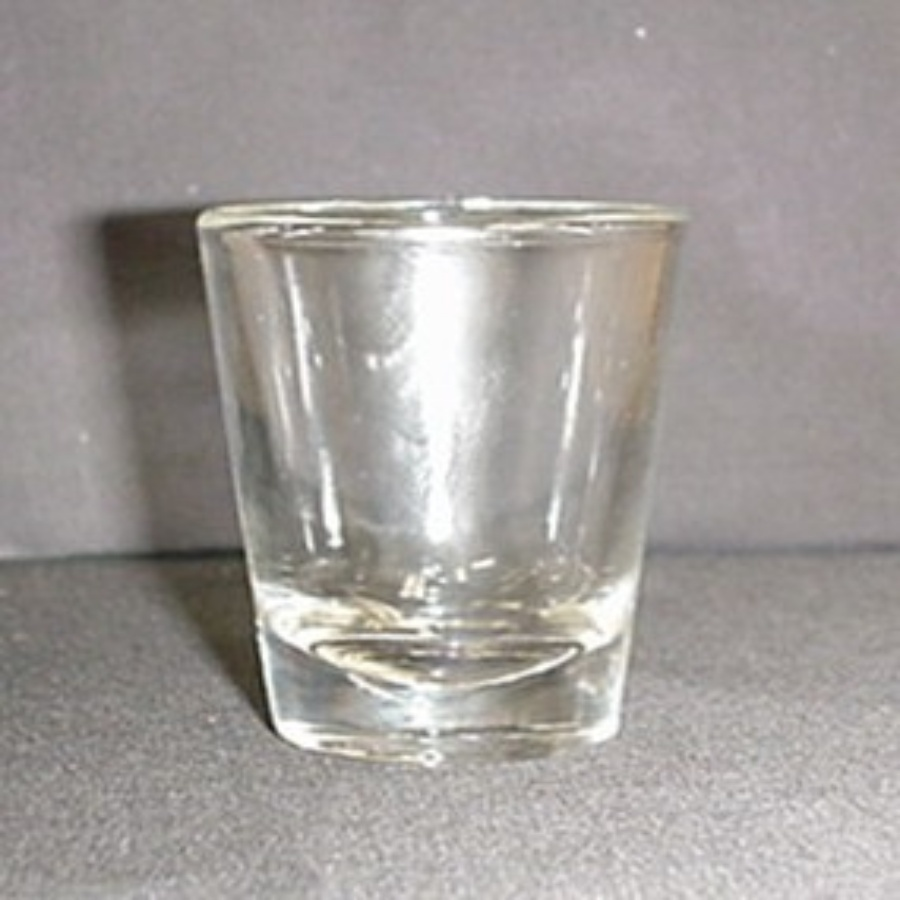whiskey: (209, 181, 668, 755)
